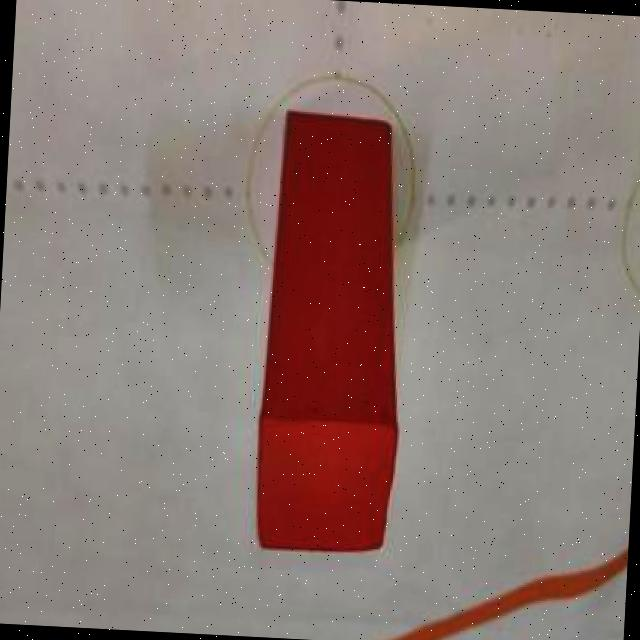redbox: (251, 106, 418, 559)
